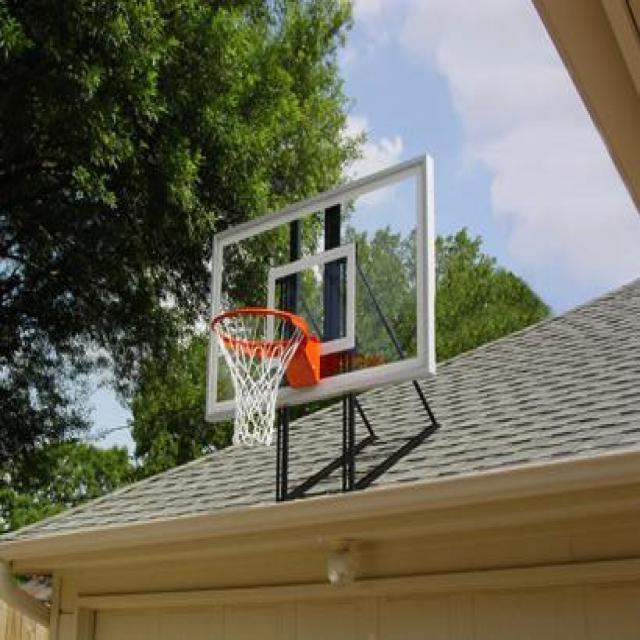hoop: (211, 309, 310, 449)
